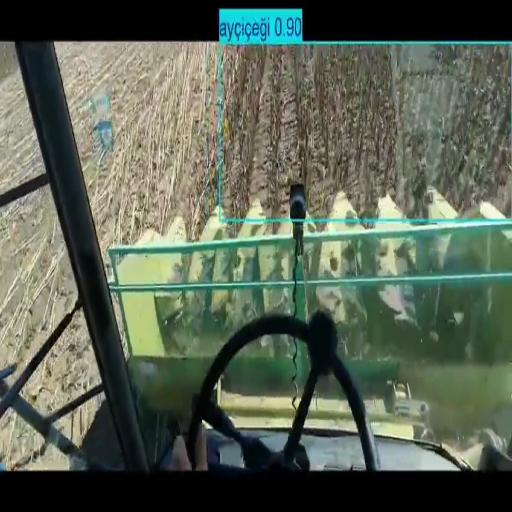ayc: (210, 46, 511, 216)
